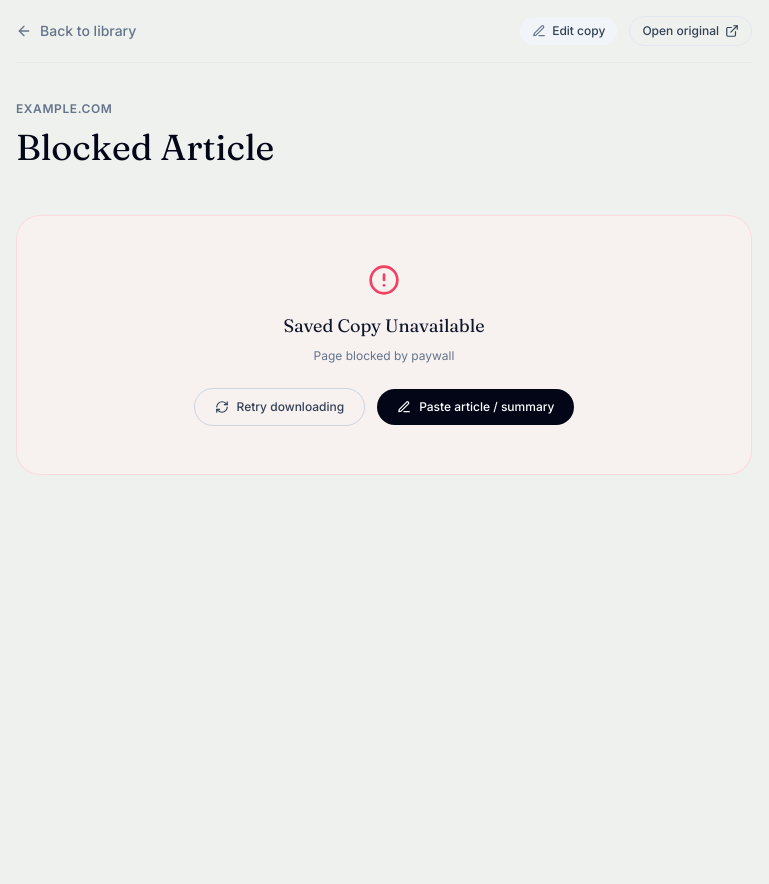
Test: BookmarkReader › renders failed state with manual paste button
Check: the heading "Saved Copy Unavailable" is shown, box [283,312,485,340]
Check: the text "Page blocked by paywall" is shown, box [314,348,454,364]
Clicking paste button opens editor
Click the button "Paste article / summary" at (476, 407), box [377,389,574,425]
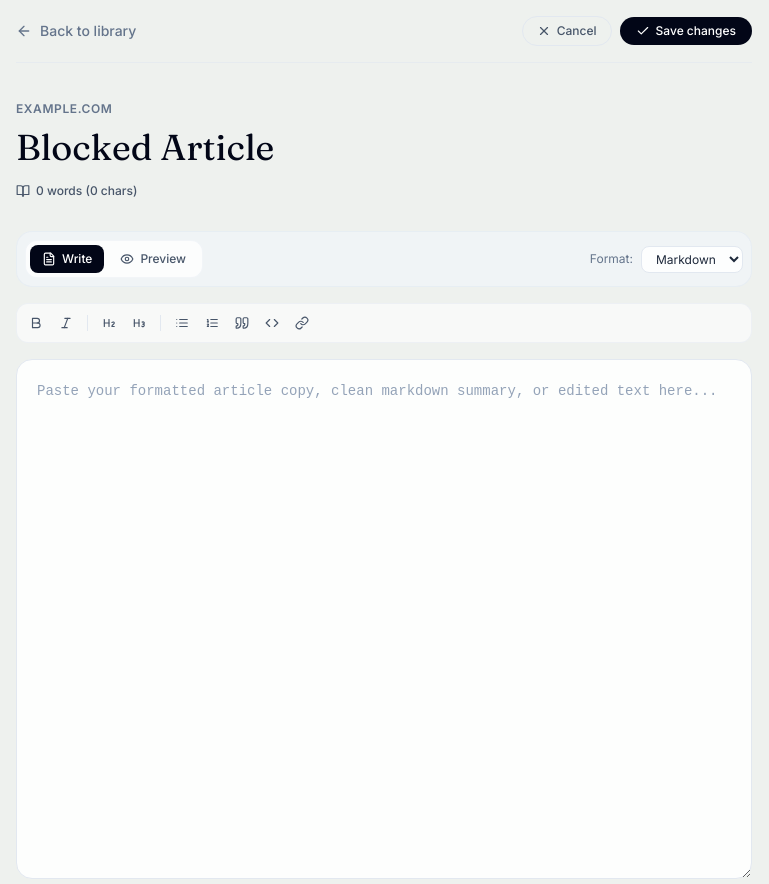
Check: the text box with placeholder "Paste your formatted article copy" is shown, box [16,359,752,879]
